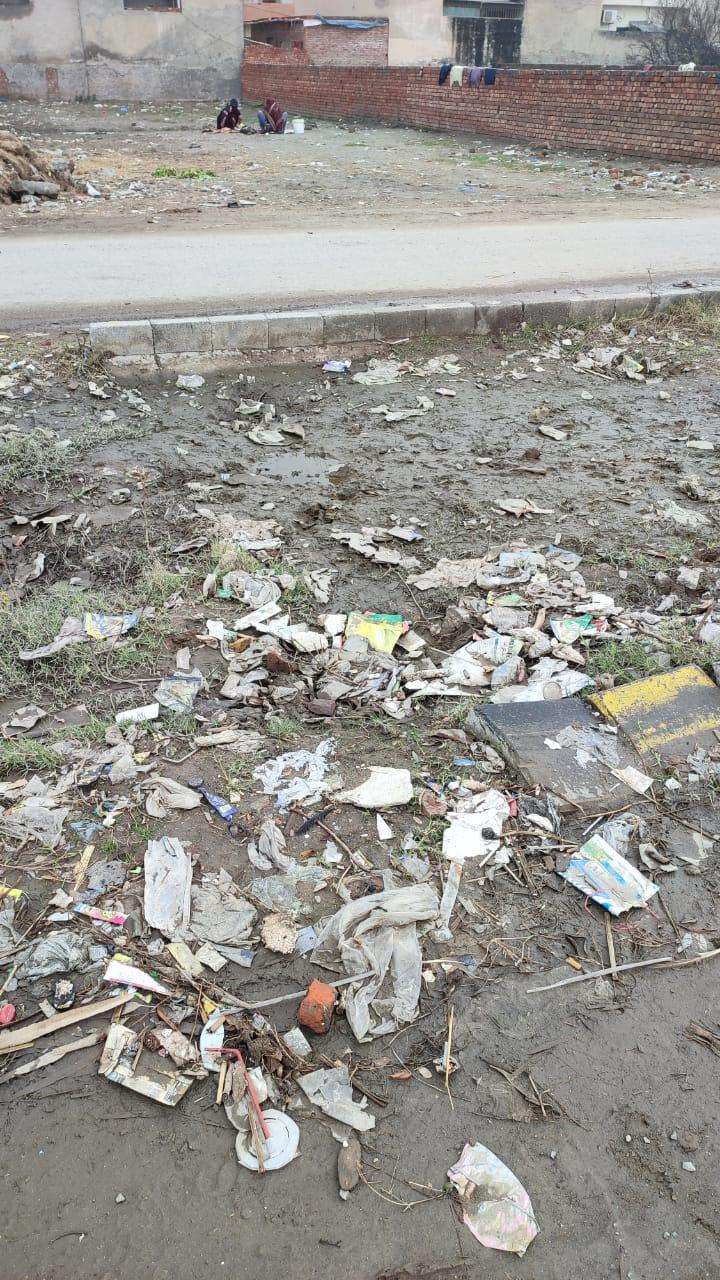garbage: (78, 538, 645, 1123)
